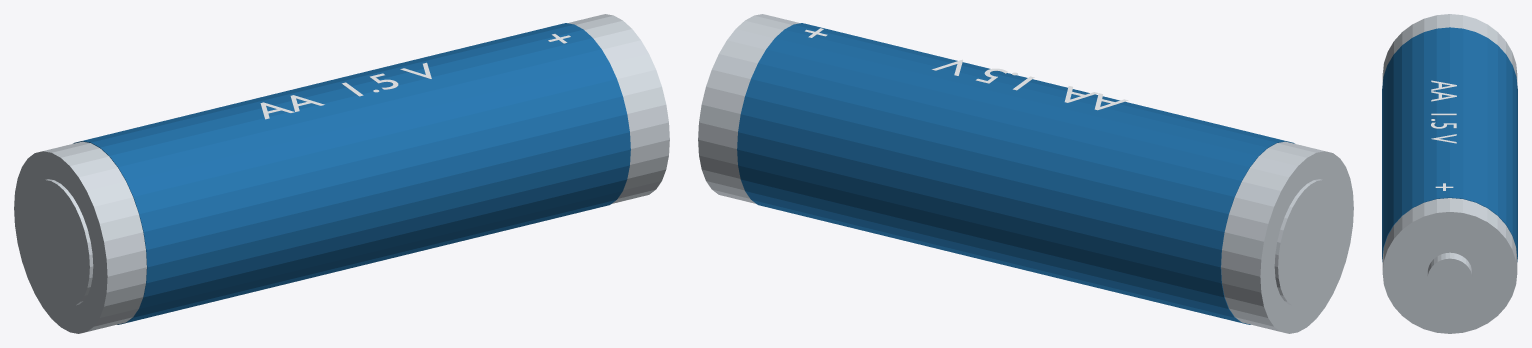
Rendered from aa-battery.glb.
3 renders of one model, left to right at view 1: azimuth 30°, elevation 25°; view 2: azimuth 150°, elevation 25°; view 3: azimuth 270°, elevation 25°, orthographic. The views are drawn at different scales.
Parts seen in each view (by area): view 1: Static body • blue, Static body • silver, Static body • white; view 2: Static body • blue, Static body • silver, Static body • white; view 3: Static body • blue, Static body • silver, Static body • white.
Part boxes in pixels (bbox=[...]): Static body • blue: bbox=[73, 23, 630, 324]; Static body • silver: bbox=[14, 14, 669, 333]; Static body • white: bbox=[260, 34, 570, 119]; Static body • blue: bbox=[737, 23, 1294, 324]; Static body • silver: bbox=[698, 14, 1353, 333]; Static body • white: bbox=[805, 28, 1128, 110]; Static body • blue: bbox=[1382, 27, 1517, 261]; Static body • silver: bbox=[1382, 14, 1517, 333]; Static body • white: bbox=[1431, 80, 1456, 190].
Size of the model in its own units: 51.85 by 14.56 by 14.5.
